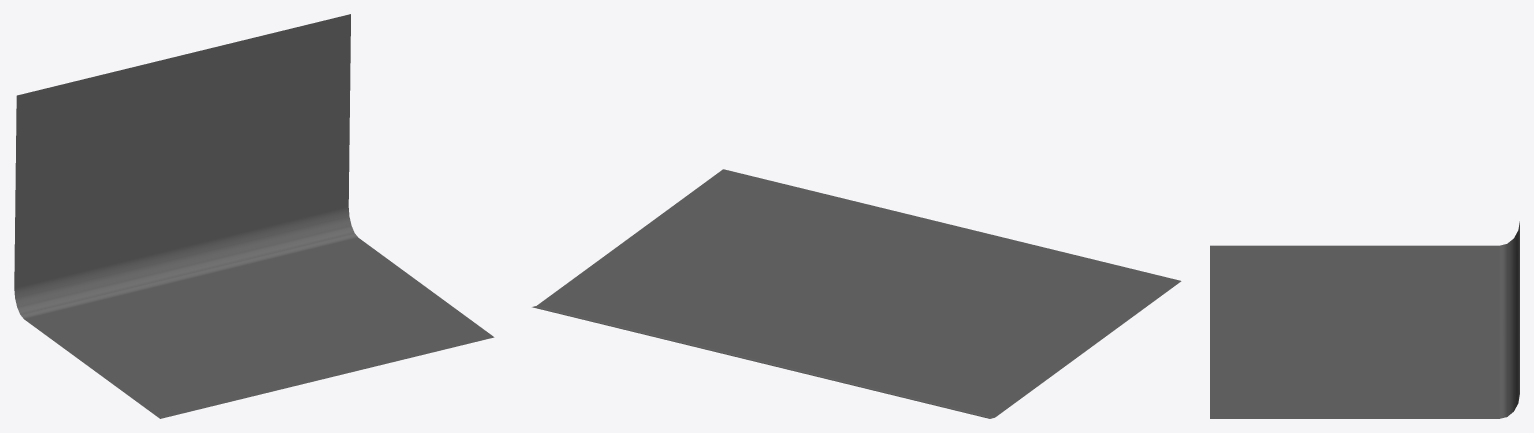
Rendered from SM_ZBackdrop_01a.glb.
The picture shows the model from 3 angles, left to right: view 1: azimuth 30°, elevation 25°; view 2: azimuth 150°, elevation 25°; view 3: azimuth 270°, elevation 25°; orthographic projection. The views are drawn at different scales.
Parts seen in each view (by area): view 1: SM_ZBackdrop_01a; view 2: SM_ZBackdrop_01a; view 3: SM_ZBackdrop_01a.
Boxes of the visible parts, x1=… form: SM_ZBackdrop_01a: x1=14, y1=14, x2=494, y2=418; SM_ZBackdrop_01a: x1=532, y1=169, x2=1181, y2=418; SM_ZBackdrop_01a: x1=1210, y1=221, x2=1519, y2=418.
Bounding box in the file's own units: 4.04 × 2.52 × 3.05.
Materials: 1 (1 with a texture image).
